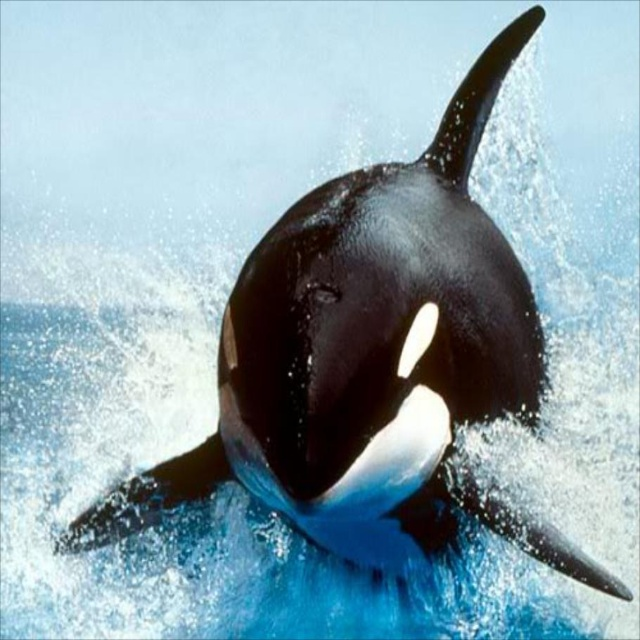Whale: (54, 3, 633, 602)
